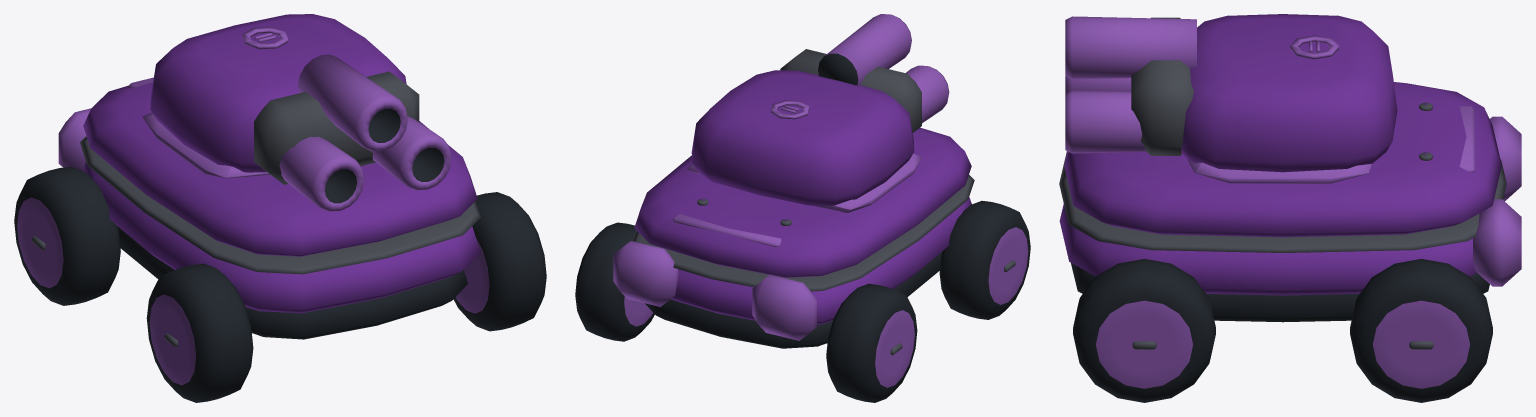
The model's file is TOY_SWARMER.lo.glb.
The picture shows the model from 3 angles, left to right: view 1: azimuth 30°, elevation 25°; view 2: azimuth 150°, elevation 25°; view 3: azimuth 270°, elevation 25°; orthographic projection. The views are drawn at different scales.
Parts seen in each view (by area): view 1: Body, TurretYaw, WheelsFront, BarrelRecoil, WheelsRear; view 2: Body, TurretYaw, WheelsRear, WheelsFront, BarrelRecoil; view 3: Body, TurretYaw, BarrelRecoil, WheelsRear, WheelsFront.
Boxes of the visible parts, box(x1,y1,x2,y2) form: Body: box(58, 77, 480, 339); TurretYaw: box(142, 14, 406, 178); WheelsFront: box(146, 192, 546, 402); BarrelRecoil: box(254, 54, 451, 211); WheelsRear: box(14, 166, 120, 305); Body: box(613, 127, 974, 348); TurretYaw: box(687, 70, 921, 212); WheelsRear: box(575, 222, 917, 402); WheelsFront: box(939, 200, 1030, 319); BarrelRecoil: box(780, 14, 949, 132); Body: box(1059, 82, 1521, 322); TurretYaw: box(1181, 14, 1397, 183); BarrelRecoil: box(1065, 16, 1196, 155); WheelsRear: box(1350, 259, 1492, 402); WheelsFront: box(1073, 259, 1215, 402).
Bounding box in the file's own units: 0.748 × 0.581 × 0.8077.
